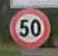limite 50: (8, 7, 50, 48)
